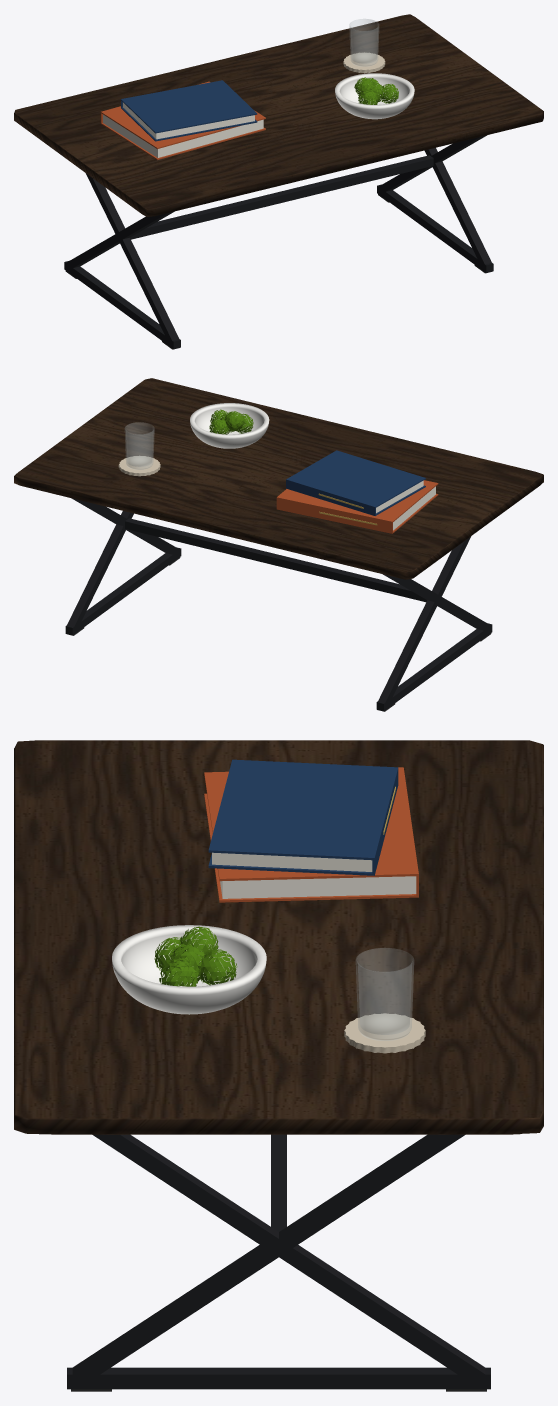
File: Office_Lounge_Coffee_Table.glb
3 views of the same model, one above another, from view 1: azimuth 30°, elevation 25°; view 2: azimuth 150°, elevation 25°; view 3: azimuth 270°, elevation 25° (orthographic). The views are drawn at different scales.
Visible parts, largest first — view 1: Walnut_Tabletop, Book_Monograph_Small_Cover_Top, Centre_Stretcher, Ceramic_Bowl, Cross_Leg_A_W, Floor_Runner_E, Floor_Runner_W, Book_Monograph_Large_Pages, Cross_Leg_A_E, Glass_Tumbler, Book_Monograph_Large_Cover_Top, Cross_Leg_B_W (+4 smaller); view 2: Walnut_Tabletop, Book_Monograph_Small_Cover_Top, Centre_Stretcher, Ceramic_Bowl, Cross_Leg_B_W, Floor_Runner_W, Floor_Runner_E, Book_Monograph_Large_Cover_Top, Cross_Leg_B_E, Glass_Tumbler, Book_Monograph_Large_Spine, Cross_Leg_A_W (+3 smaller); view 3: Walnut_Tabletop, Book_Monograph_Small_Cover_Top, Cross_Leg_A_E, Cross_Leg_B_E, Floor_Runner_E, Ceramic_Bowl, Glass_Tumbler, Book_Monograph_Large_Cover_Top, Book_Monograph_Large_Pages, Coaster_Fluted_Ceramic, Book_Monograph_Small_Pages, Centre_Stretcher (+5 smaller).
Part boxes in pixels (<box>): Walnut_Tabletop: <box>14,14,543,216</box>; Book_Monograph_Small_Cover_Top: <box>121,80,257,133</box>; Centre_Stretcher: <box>130,155,433,239</box>; Ceramic_Bowl: <box>335,73,414,119</box>; Cross_Leg_A_W: <box>85,173,179,345</box>; Floor_Runner_E: <box>377,184,493,272</box>; Floor_Runner_W: <box>64,260,180,349</box>; Book_Monograph_Large_Pages: <box>103,114,263,157</box>; Cross_Leg_A_E: <box>424,147,491,269</box>; Glass_Tumbler: <box>349,19,378,66</box>; Book_Monograph_Large_Cover_Top: <box>101,81,265,148</box>; Cross_Leg_B_W: <box>65,211,174,270</box>; Walnut_Tabletop: <box>14,378,543,579</box>; Book_Monograph_Small_Cover_Top: <box>286,450,425,507</box>; Centre_Stretcher: <box>125,518,426,602</box>; Ceramic_Bowl: <box>190,403,269,448</box>; Cross_Leg_B_W: <box>378,536,471,706</box>; Floor_Runner_W: <box>376,623,492,711</box>; Floor_Runner_E: <box>65,547,181,635</box>; Book_Monograph_Large_Cover_Top: <box>276,480,438,522</box>; Cross_Leg_B_E: <box>67,511,133,631</box>; Glass_Tumbler: <box>125,422,154,469</box>; Book_Monograph_Large_Spine: <box>276,498,392,533</box>; Cross_Leg_A_W: <box>383,574,491,633</box>; Walnut_Tabletop: <box>14,740,543,1134</box>; Book_Monograph_Small_Cover_Top: <box>208,759,398,860</box>; Cross_Leg_A_E: <box>71,1134,465,1387</box>; Cross_Leg_B_E: <box>92,1134,486,1387</box>; Floor_Runner_E: <box>67,1367,490,1389</box>; Ceramic_Bowl: <box>112,925,266,1014</box>; Glass_Tumbler: <box>356,948,413,1040</box>; Book_Monograph_Large_Cover_Top: <box>204,767,418,881</box>; Book_Monograph_Large_Pages: <box>220,876,416,898</box>; Coaster_Fluted_Ceramic: <box>344,1013,425,1053</box>; Book_Monograph_Small_Pages: <box>212,852,372,871</box>; Centre_Stretcher: <box>271,1134,286,1231</box>.
Bounding box in the file's own units: 1.1 × 0.523 × 0.65.
11 materials, 1 textured.
